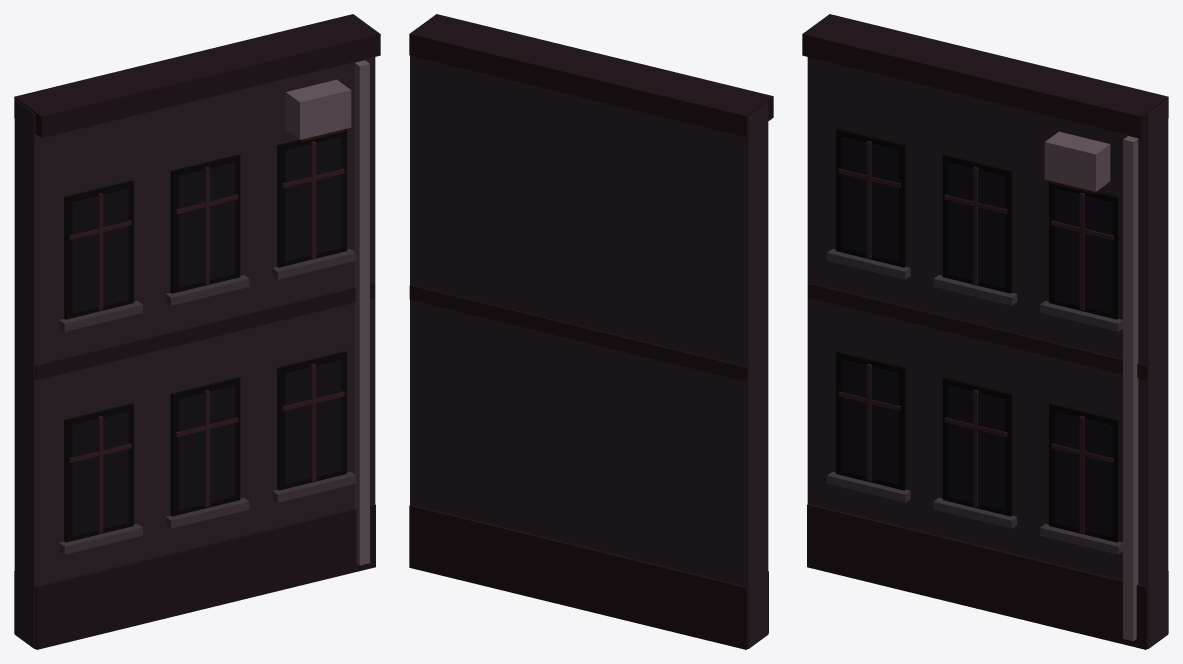
File: SM_FacadeModule_B_Flats.obj
3 renders of one model, left to right at view 1: azimuth 30°, elevation 25°; view 2: azimuth 150°, elevation 25°; view 3: azimuth 330°, elevation 25°, orthographic.
Visible parts, largest first — view 1: wall_body, plinth, cornice, drainpipe, window_glass_6, window_glass_4, window_glass_1, window_glass_3, window_glass_2, window_glass_5, band_course, ac_unit (+18 smaller); view 2: wall_body, plinth, cornice, band_course; view 3: wall_body, plinth, cornice, drainpipe, window_glass_4, window_glass_6, window_glass_3, window_glass_1, window_glass_2, window_glass_5, band_course, ac_unit (+18 smaller).
Part boxes in pixels (x1,y1,x2,y2): wall_body: (14,57,375,648); plinth: (14,504,375,649); cornice: (14,14,380,137); drainpipe: (354,60,369,565); window_glass_6: (284,137,341,261); window_glass_4: (71,189,128,313); window_glass_1: (71,412,128,536); window_glass_3: (284,360,341,484); window_glass_2: (178,386,234,510); window_glass_5: (178,163,234,287); band_course: (35,282,375,380); ac_unit: (285,79,351,139); wall_body: (410,55,768,648); plinth: (409,504,768,649); cornice: (409,14,773,137); band_course: (409,285,747,381); wall_body: (807,57,1168,648); plinth: (807,504,1168,649); cornice: (802,14,1168,137); drainpipe: (1123,136,1138,641); window_glass_4: (841,137,898,261); window_glass_6: (1054,189,1111,313); window_glass_3: (1054,412,1111,536); window_glass_1: (841,360,898,484); window_glass_2: (948,386,1004,510); window_glass_5: (948,163,1004,287); band_course: (807,282,1147,380); ac_unit: (1044,131,1110,191).
Bounding box in the file's own units: 4 × 6.02 × 0.72.
